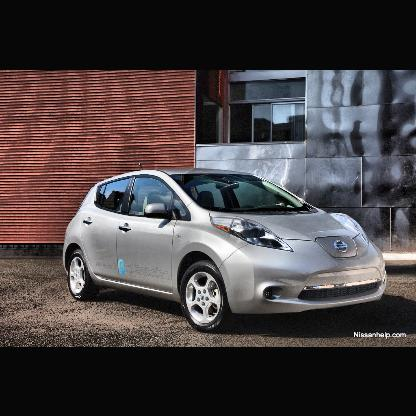Nissan Leaf Hatchback 2012: (64, 168, 388, 334)
